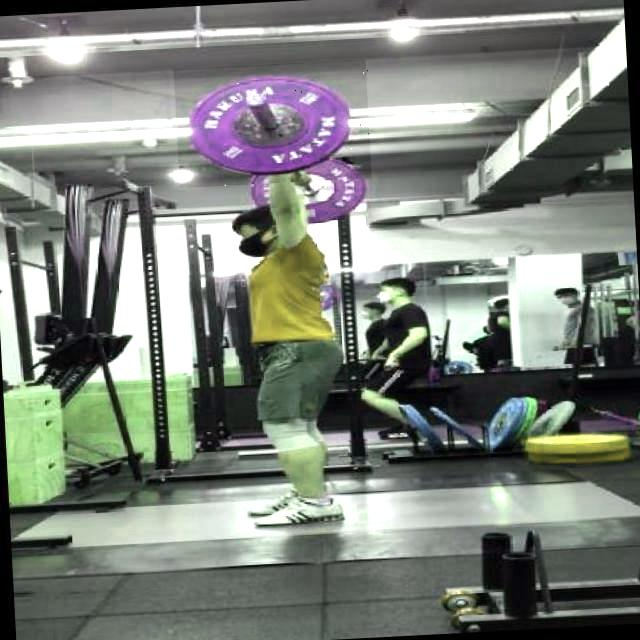barbell: (175, 60, 375, 188)
